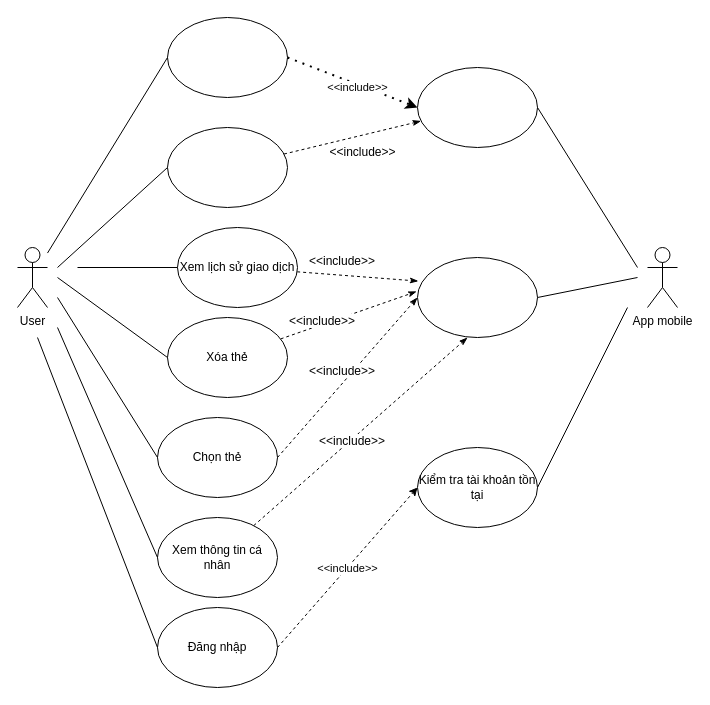
Some shapes in this 710 by 705 pixel diagram are drawn without their labels. The box of each missing label's shape, as (x1, y1, x2, y2) in pixels:
Kiểm tra thẻ có gắn chip và hỗ trợ NFC: (416, 66, 538, 148)
Kiểm tra thẻ tồn tại: (416, 256, 538, 338)
Thêm thông tin thẻ: (166, 126, 288, 208)
Truyển thông tin qua đầu quét: (166, 16, 288, 98)
